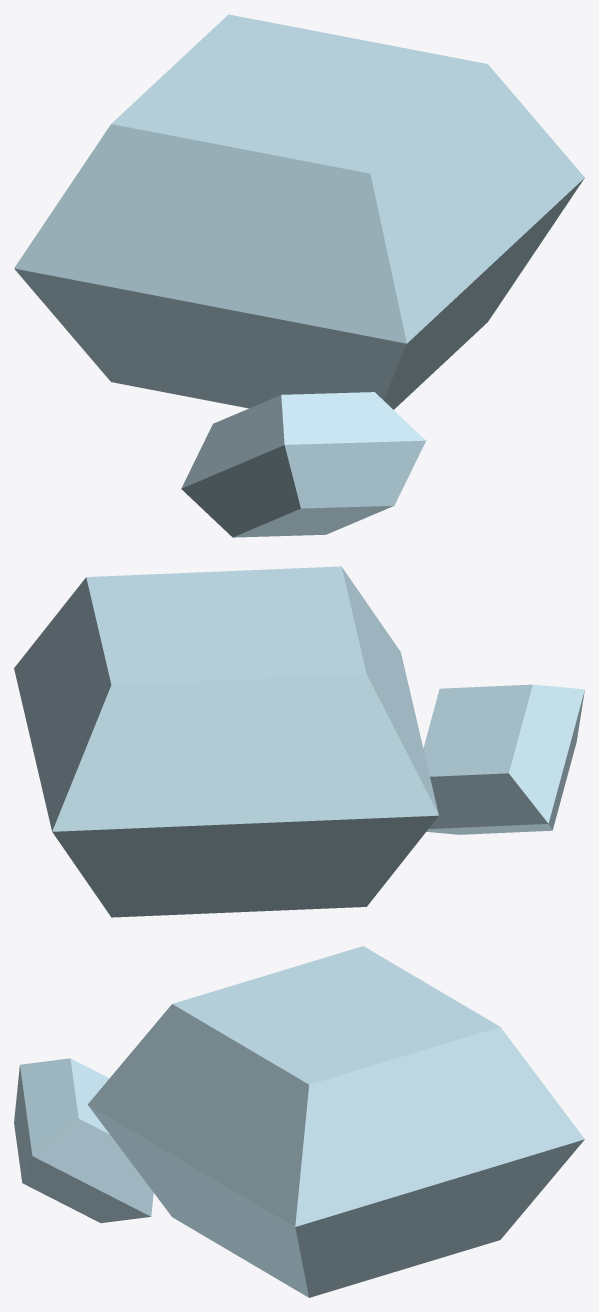
Rendered from Stone.fbx.
3 views of the same model, one above another, from view 1: azimuth 30°, elevation 25°; view 2: azimuth 150°, elevation 25°; view 3: azimuth 270°, elevation 25° (orthographic). The views are drawn at different scales.
Visible parts, largest first — view 1: Stone; view 2: Stone; view 3: Stone.
Boxes of the visible parts, x1,y1,x2,y2 form: Stone: (14,14,584,537); Stone: (14,566,584,917); Stone: (14,946,584,1297).
Bounding box in the file's own units: 199 × 113 × 229.
